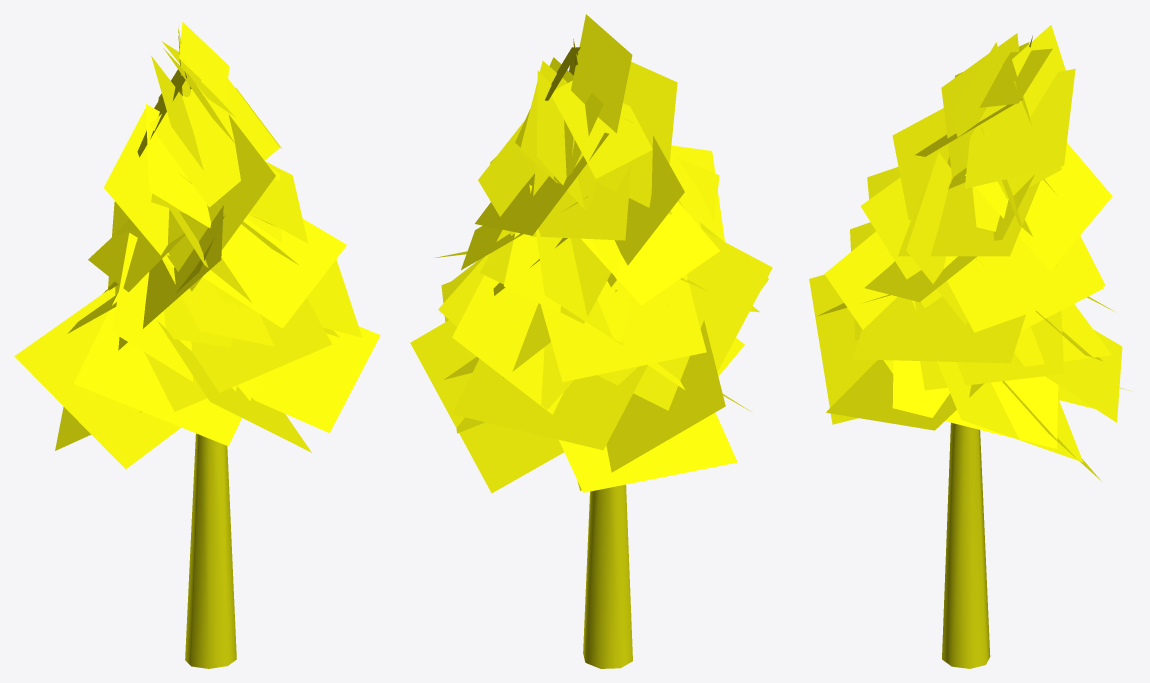
Rendered from forest_pine_2.glb.
3 renders of one model, left to right at view 1: azimuth 30°, elevation 25°; view 2: azimuth 150°, elevation 25°; view 3: azimuth 270°, elevation 25°, orthographic. The views are drawn at different scales.
Parts seen in each view (by area): view 1: Plane.015, Cylinder.009; view 2: Plane.015, Cylinder.009; view 3: Plane.015, Cylinder.009.
Boxes of the visible parts, box(x1,y1,x2,y2) form: Plane.015: box(14, 22, 380, 469); Cylinder.009: box(178, 25, 236, 668); Plane.015: box(410, 14, 772, 493); Cylinder.009: box(573, 39, 632, 668); Plane.015: box(809, 25, 1130, 481); Cylinder.009: box(942, 35, 1032, 668).
Size of the model in its own units: 3.19 by 6.04 by 2.78.
Materials: 2 (2 with a texture image).
